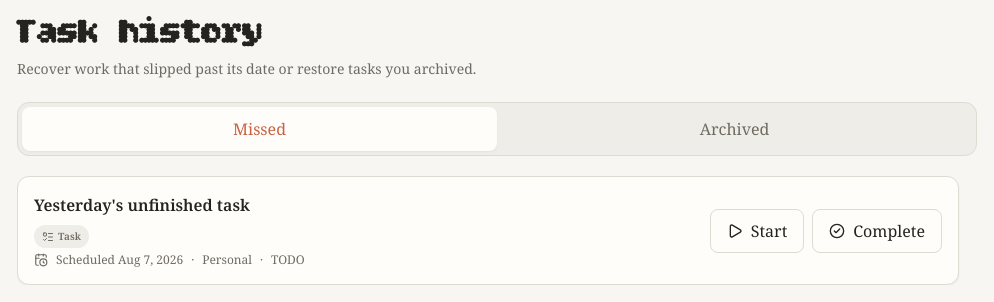
TaskHistoryScreen › uses URL-backed tabs and renders the selected history collection
Expected: the text "Yesterday's unfinished task" is shown, [34,194,250,216]
Click the tab "Archived": (734, 129) [497,107,972,151]
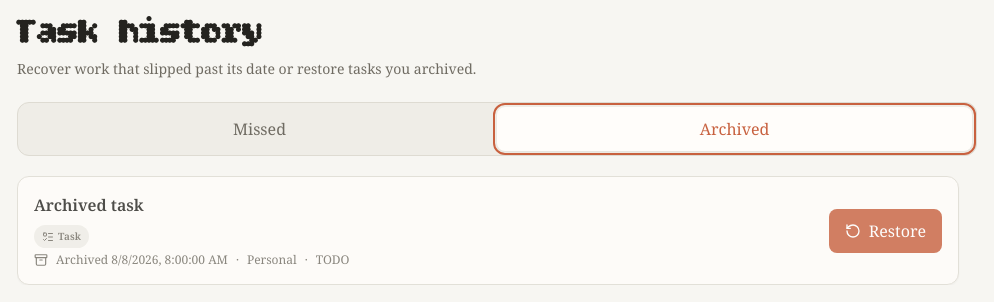
Now the text "Archived task" is shown, box [34,194,144,216]
